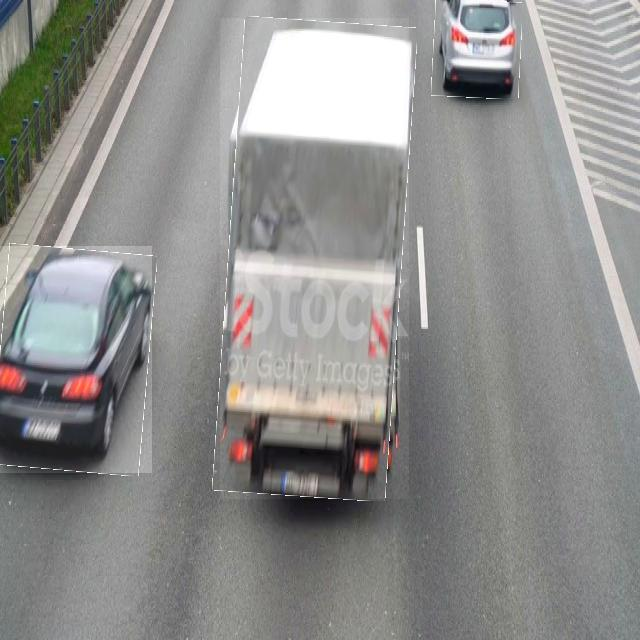Car: (0, 246, 152, 473), (432, 0, 520, 98)
Truck: (220, 18, 409, 499)
